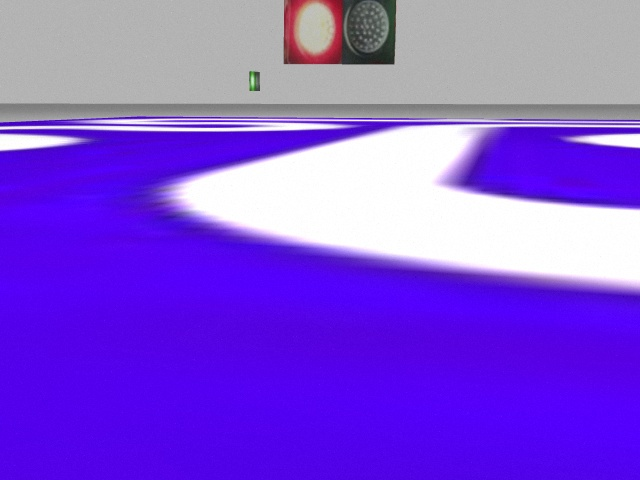red: (284, 2, 342, 64)
